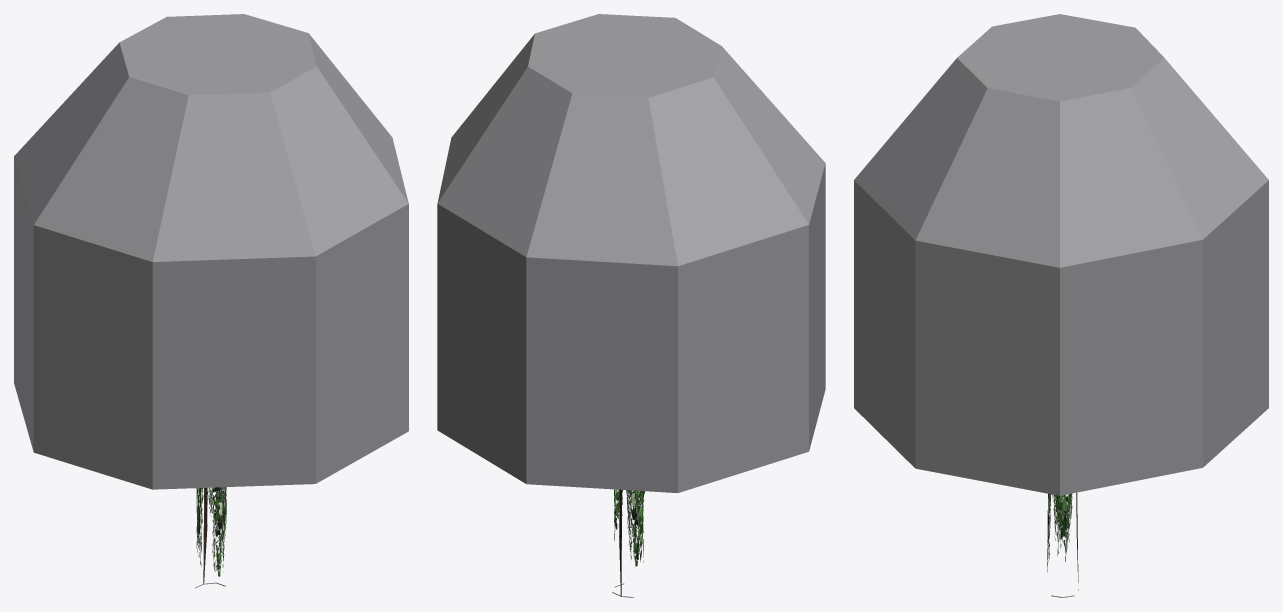
The model's file is tree5_chk.fbx.
3 renders of one model, left to right at view 1: azimuth 30°, elevation 25°; view 2: azimuth 150°, elevation 25°; view 3: azimuth 270°, elevation 25°, orthographic.
Parts seen in each view (by area): view 1: tree2_chk; view 2: tree2_chk; view 3: tree2_chk.
Boxes of the visible parts, x1,y1,x2,y2 form: tree2_chk: (14, 14, 408, 588); tree2_chk: (437, 14, 825, 597); tree2_chk: (854, 14, 1268, 597).
Bounding box in the file's own units: 0.0647 × 0.0922 × 0.0647.
1 material, 1 textured.
